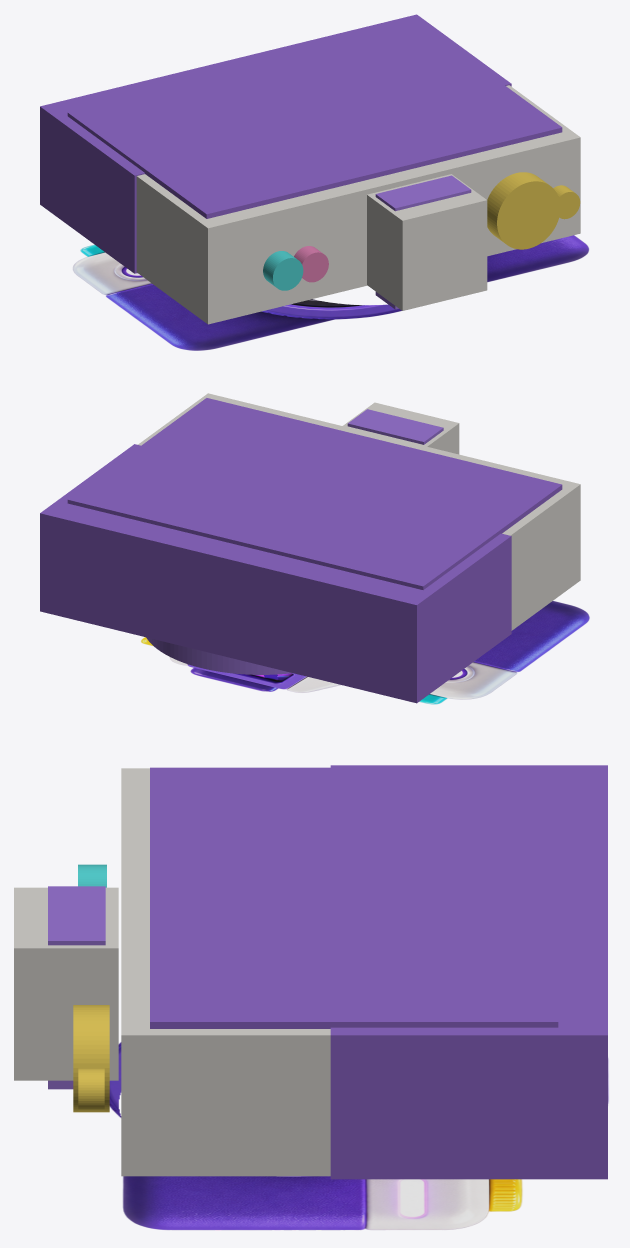
The model's file is witch-head.glb.
3 renders of one model, top to bottom at view 1: azimuth 30°, elevation 25°; view 2: azimuth 150°, elevation 25°; view 3: azimuth 270°, elevation 25°, orthographic. The views are drawn at different scales.
Visible parts, largest first — view 1: rear_panel, shell_upper, shell_lower, viewfinder_hump, front_exact_art, dial_yellow, viewfinder_frame, button_cyan, button_pink, button_yellow_small; view 2: shell_lower, rear_panel, shell_upper, front_exact_art, lens_outer, viewfinder_frame, viewfinder_hump; view 3: rear_panel, shell_lower, shell_upper, front_exact_art, viewfinder_hump, viewfinder_frame, dial_yellow, button_yellow_small, button_cyan.
Part boxes in pixels (x1,y1,x2,y2): rear_panel: (67, 25, 562, 218); shell_upper: (136, 85, 580, 324); shell_lower: (40, 14, 511, 273); viewfinder_hump: (367, 174, 487, 310); front_exact_art: (73, 235, 588, 350); dial_yellow: (487, 172, 560, 249); viewfinder_frame: (375, 175, 471, 309); button_cyan: (263, 251, 303, 290); button_pink: (294, 246, 328, 282); button_yellow_small: (553, 185, 580, 219); shell_lower: (40, 444, 511, 703); rear_panel: (67, 398, 562, 589); shell_upper: (138, 393, 580, 630); front_exact_art: (141, 601, 589, 704); lens_outer: (146, 637, 292, 674); viewfinder_frame: (347, 409, 443, 444); viewfinder_hump: (343, 402, 459, 454); rear_panel: (150, 767, 558, 1028); shell_lower: (330, 765, 607, 1179); shell_upper: (121, 768, 330, 1176); front_exact_art: (109, 1042, 608, 1229); viewfinder_hump: (14, 887, 118, 1080); viewfinder_frame: (48, 886, 105, 1089); dial_yellow: (73, 1005, 109, 1112); button_yellow_small: (78, 1068, 104, 1110); button_cyan: (78, 864, 106, 887).
Size of the model in its own units: 7 by 2.3 by 5.88.
Materials: 2 (2 with a texture image).
